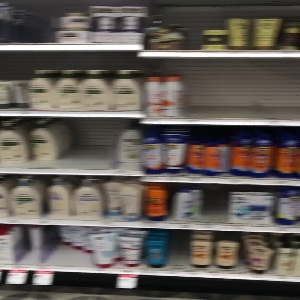void: (182, 57, 300, 121), (59, 119, 119, 170), (199, 187, 228, 223), (166, 229, 189, 273)
